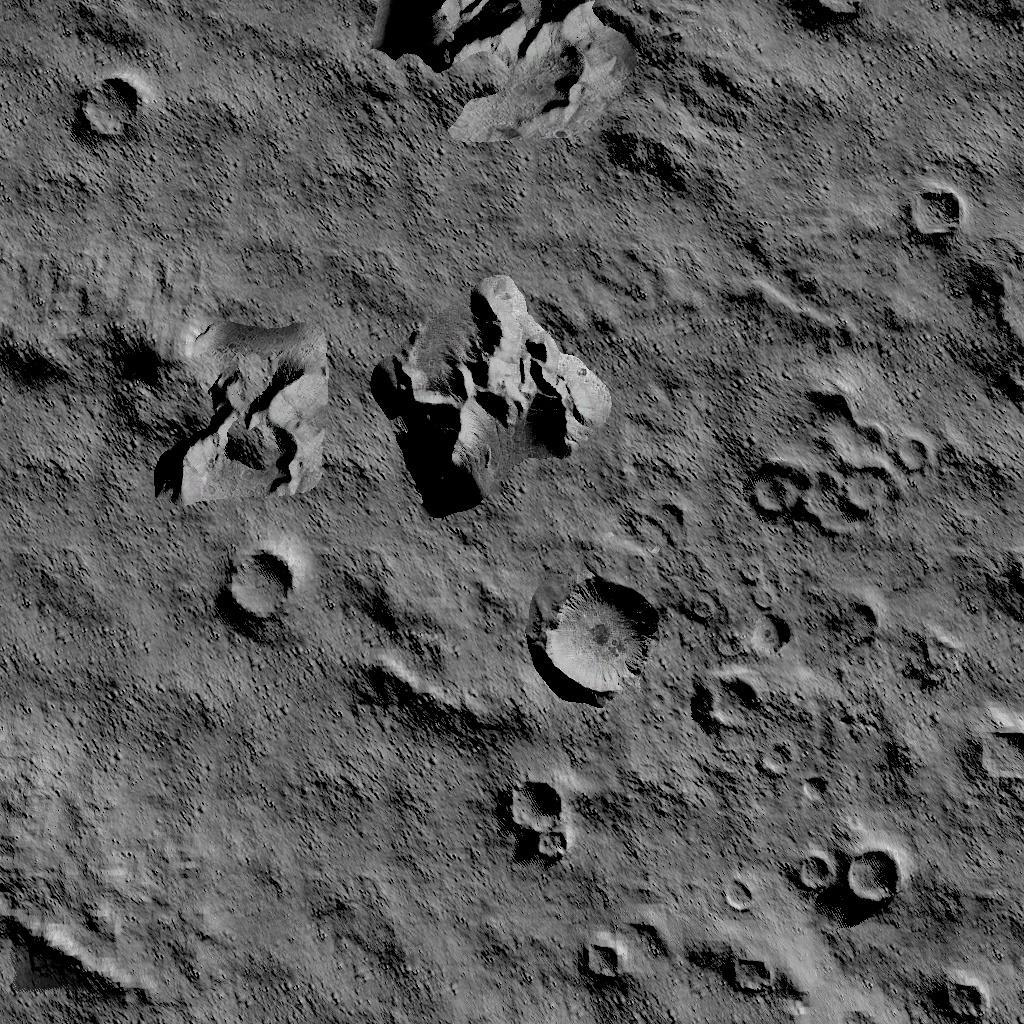Boulders: (368, 274, 607, 514), (363, 0, 639, 152), (104, 326, 317, 514)
Crater: (743, 392, 919, 538), (526, 578, 655, 703), (967, 264, 1024, 415), (216, 550, 294, 632), (498, 783, 570, 871), (795, 843, 901, 900), (68, 78, 146, 145), (686, 676, 760, 736), (956, 729, 1024, 790), (899, 188, 964, 248), (719, 950, 778, 998), (792, 0, 862, 34), (928, 984, 986, 1024), (577, 938, 624, 986), (980, 554, 1024, 604), (749, 617, 794, 665), (746, 746, 789, 776), (718, 882, 758, 914), (797, 778, 829, 804)
Plan surface: (3, 752, 475, 932), (155, 0, 349, 312), (677, 50, 1024, 178), (3, 526, 191, 744)
